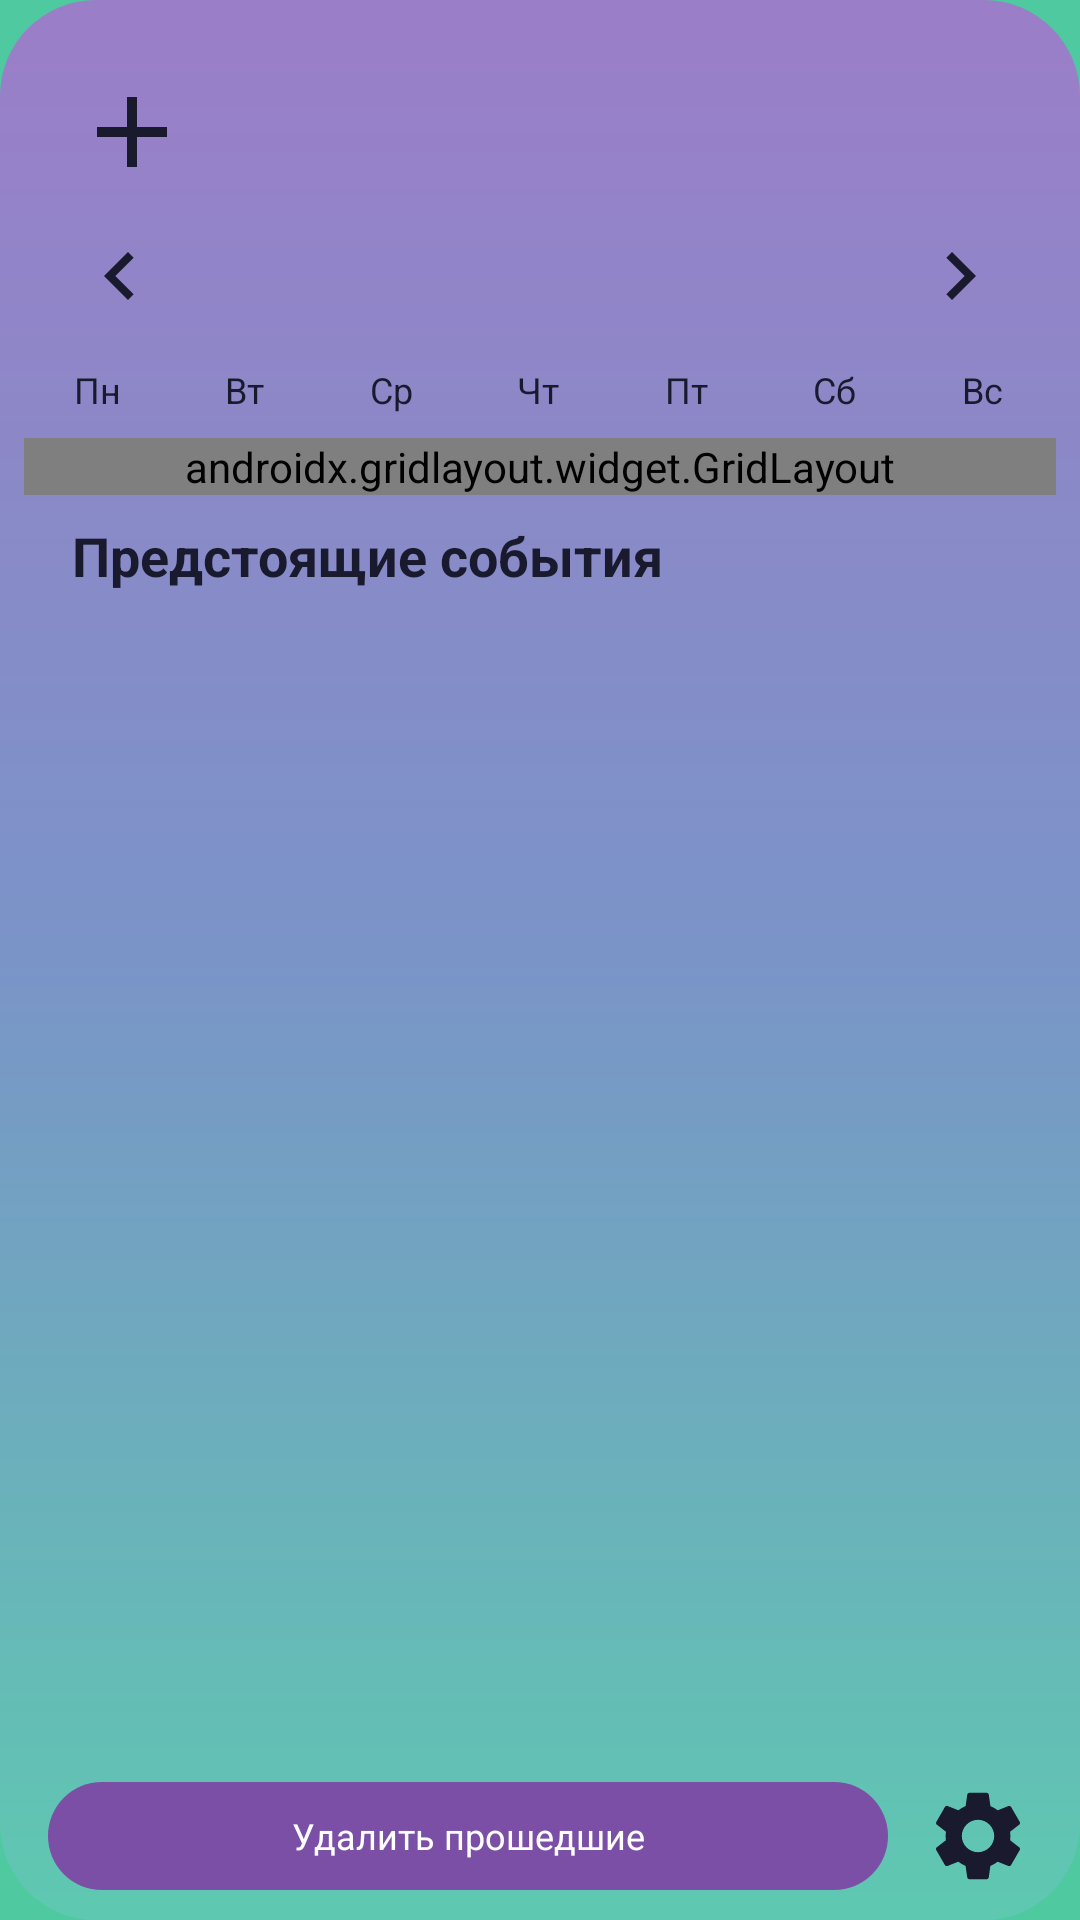

Named icons in this screenshot (1080 × 1920) and their centers, point (x, y):
Вперёд: point (961, 276)
Добавить: point (132, 132)
Назад: point (119, 276)
Настройки: point (978, 1836)
